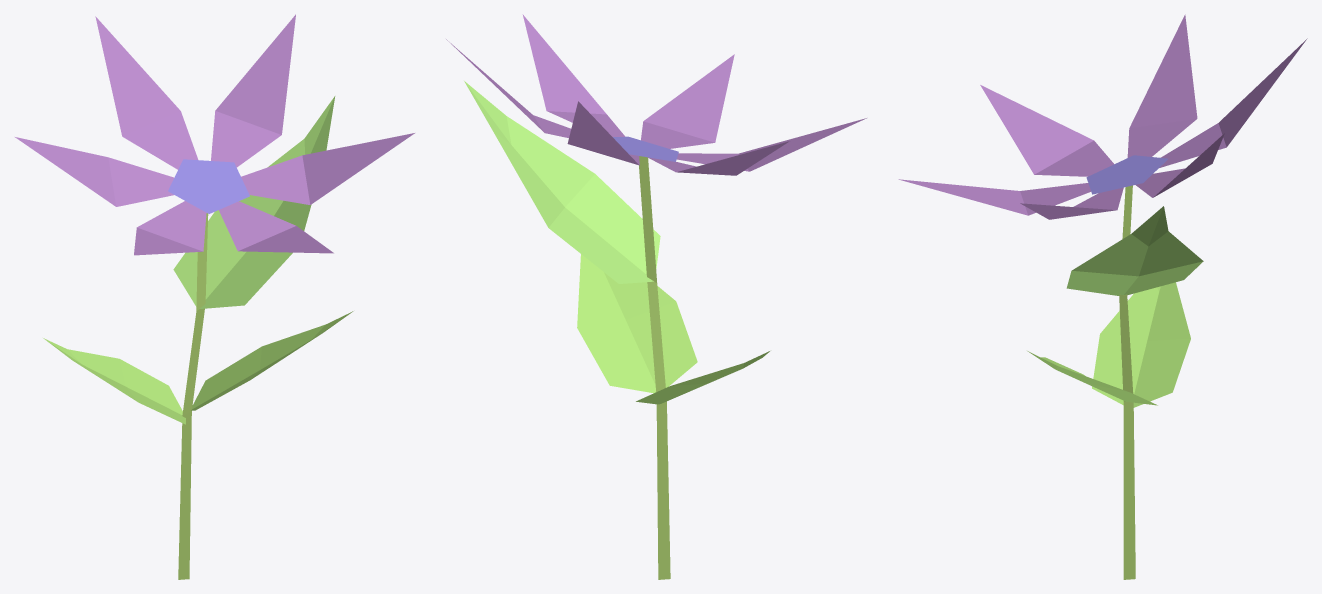
File: Flower_b_OneS_08.fbx
3 views of the same model, side by side, from view 1: azimuth 30°, elevation 25°; view 2: azimuth 150°, elevation 25°; view 3: azimuth 270°, elevation 25° (orthographic). The views are drawn at different scales.
Visible parts, largest first — view 1: Flower_b_OneS_08; view 2: Flower_b_OneS_08; view 3: Flower_b_OneS_08.
Part boxes in pixels (box(x1,y1,x2,y2)): Flower_b_OneS_08: box(15, 14, 414, 579); Flower_b_OneS_08: box(446, 14, 866, 579); Flower_b_OneS_08: box(898, 14, 1307, 579).
Bounding box in the file's own units: 0.365 × 0.54 × 0.3739.
